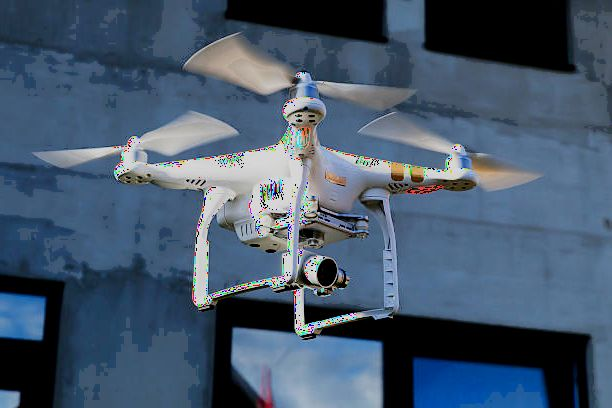Drone: (30, 26, 542, 347)
